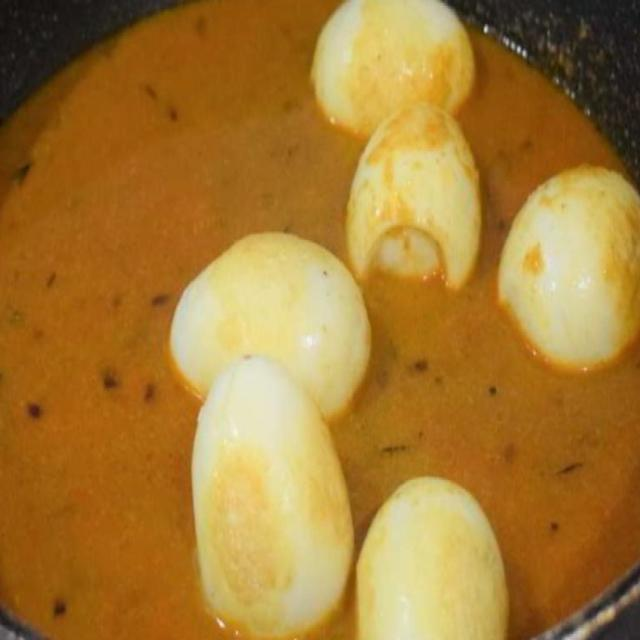EGG: (0, 0, 639, 638)
